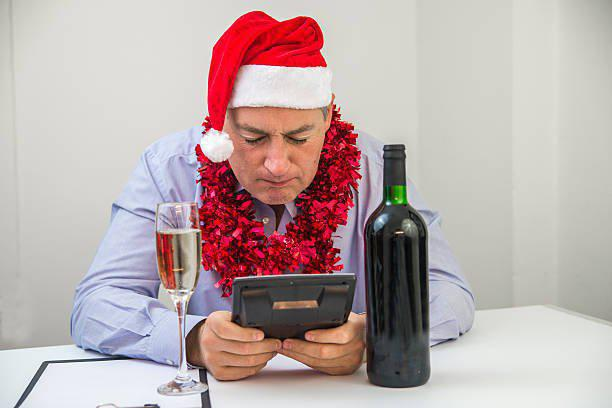Drunk: (224, 92, 321, 203)
